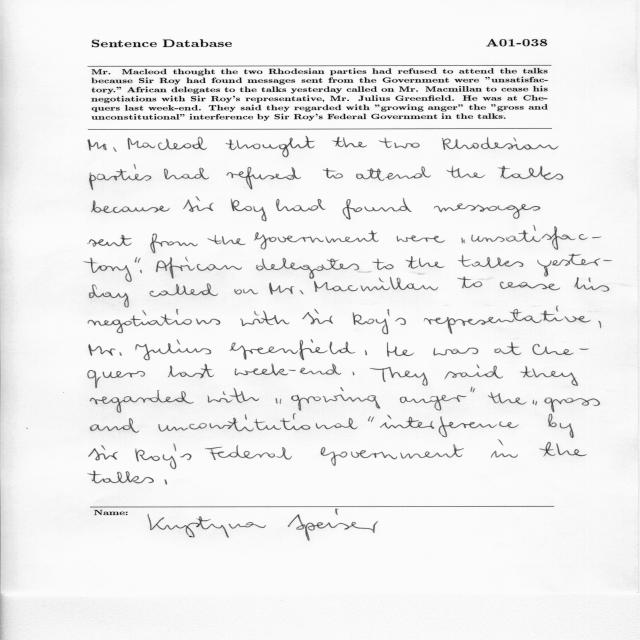word: (424, 306, 591, 334), (158, 414, 358, 432), (471, 225, 601, 250), (88, 309, 220, 333), (321, 444, 464, 466), (380, 415, 519, 437), (230, 340, 355, 361), (90, 390, 194, 413), (254, 231, 379, 250), (256, 258, 359, 279), (291, 387, 380, 411), (226, 137, 315, 158), (314, 277, 438, 292), (156, 257, 242, 278), (537, 254, 612, 277), (434, 203, 540, 219), (226, 167, 301, 189), (90, 164, 152, 190), (135, 340, 211, 361), (343, 198, 412, 220), (442, 137, 558, 150), (135, 444, 192, 470), (353, 309, 406, 334), (205, 445, 292, 460), (235, 364, 341, 375), (520, 366, 578, 386), (85, 258, 132, 282), (356, 166, 431, 181), (370, 367, 428, 386), (128, 137, 207, 150), (88, 370, 145, 388), (92, 200, 170, 213), (400, 395, 466, 410), (149, 283, 218, 297), (498, 166, 564, 180), (89, 285, 129, 308), (150, 234, 198, 253), (444, 364, 503, 379), (88, 471, 154, 484), (458, 255, 523, 268), (544, 398, 600, 413), (231, 199, 266, 222), (208, 388, 260, 403), (241, 311, 290, 326), (90, 418, 139, 433), (539, 442, 587, 457), (168, 364, 214, 378), (532, 344, 589, 355), (548, 414, 574, 438), (276, 199, 326, 211), (500, 282, 560, 291), (574, 277, 609, 292), (89, 235, 132, 247), (164, 168, 209, 179), (406, 256, 444, 269), (488, 392, 526, 405), (491, 440, 518, 458), (447, 166, 486, 178), (183, 197, 214, 212), (302, 309, 333, 324), (89, 445, 118, 461), (379, 138, 420, 149), (269, 283, 303, 295), (387, 342, 414, 357), (89, 344, 122, 356), (397, 235, 445, 243), (208, 235, 246, 245), (88, 139, 117, 152), (333, 137, 367, 148), (434, 348, 479, 356), (495, 342, 522, 355), (457, 277, 482, 288), (372, 258, 394, 270), (323, 168, 343, 178), (234, 289, 258, 295), (138, 258, 142, 274), (276, 398, 282, 404), (368, 416, 374, 422), (470, 387, 475, 393), (461, 238, 465, 244), (599, 321, 602, 329), (533, 400, 537, 406), (135, 257, 137, 262), (365, 350, 367, 355), (165, 480, 167, 485), (353, 372, 355, 375)
